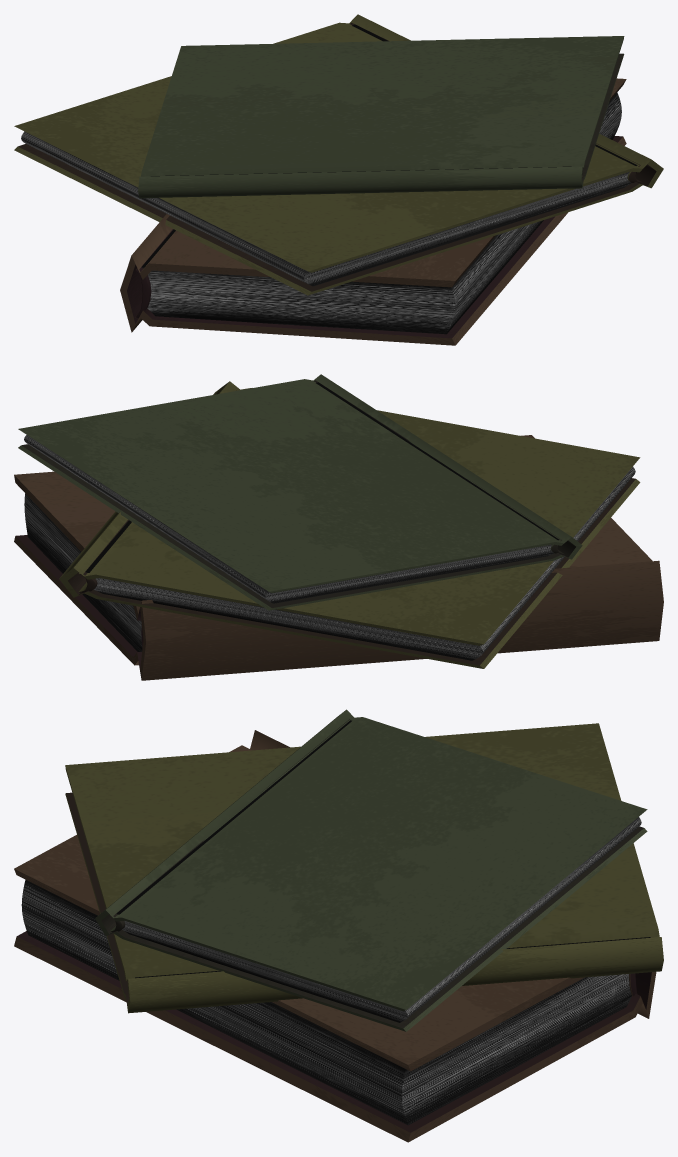
File: SmallBookStack.fbx
The picture shows the model from 3 angles, top to bottom: view 1: azimuth 30°, elevation 25°; view 2: azimuth 150°, elevation 25°; view 3: azimuth 270°, elevation 25°; orthographic projection. The views are drawn at different scales.
Visible parts, largest first — view 1: pCube66, pCube67, pages45, pCube125, pages7; view 2: pCube66, pCube67, pCube125, pages7, pages6, pages45, spine4; view 3: pCube66, pCube67, pages45, pCube125, pages6.
Part boxes in pixels (x1,y1,x2,y2): pCube66: [138, 36, 624, 198]; pCube67: [14, 14, 663, 295]; pages45: [142, 92, 621, 334]; pCube125: [120, 78, 626, 345]; pages7: [21, 24, 637, 286]; pCube66: [18, 374, 582, 610]; pCube67: [59, 381, 640, 668]; pCube125: [14, 435, 663, 680]; pages7: [85, 467, 635, 660]; pages6: [24, 382, 559, 603]; pages45: [24, 493, 142, 651]; spine4: [314, 380, 563, 554]; pCube66: [95, 709, 647, 1031]; pCube67: [65, 723, 663, 1013]; pages45: [21, 879, 631, 1125]; pCube125: [14, 730, 656, 1142]; pages6: [116, 720, 641, 1022].
Bounding box in the file's own units: 1.1 × 0.2162 × 0.9068.
